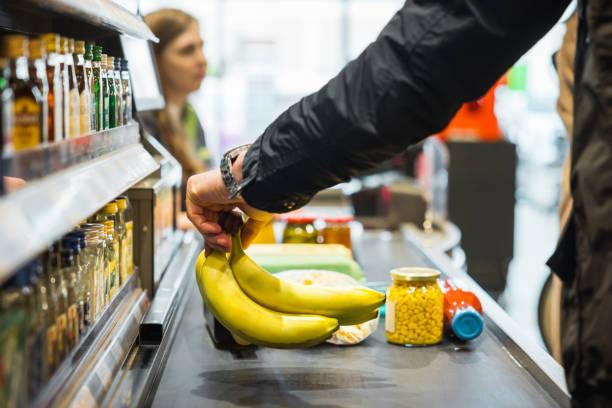Person: (140, 9, 210, 196)
article: (229, 232, 384, 324), (385, 267, 443, 345), (438, 279, 483, 340), (41, 33, 64, 142)
